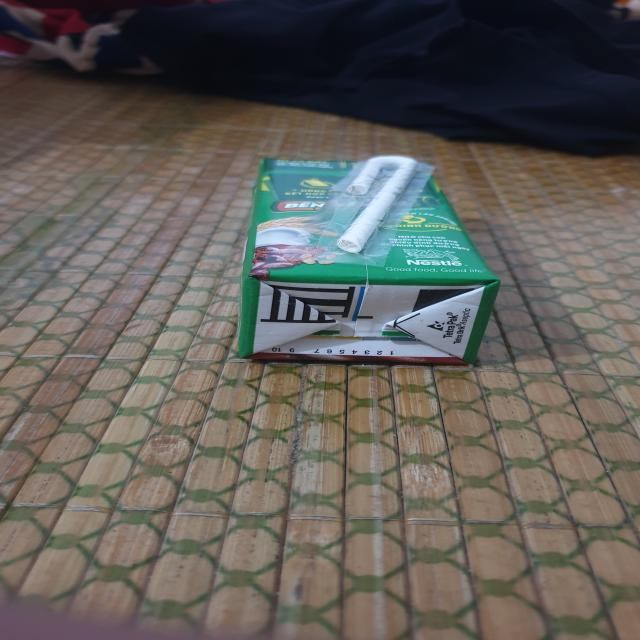Milo: (236, 157, 506, 370)
